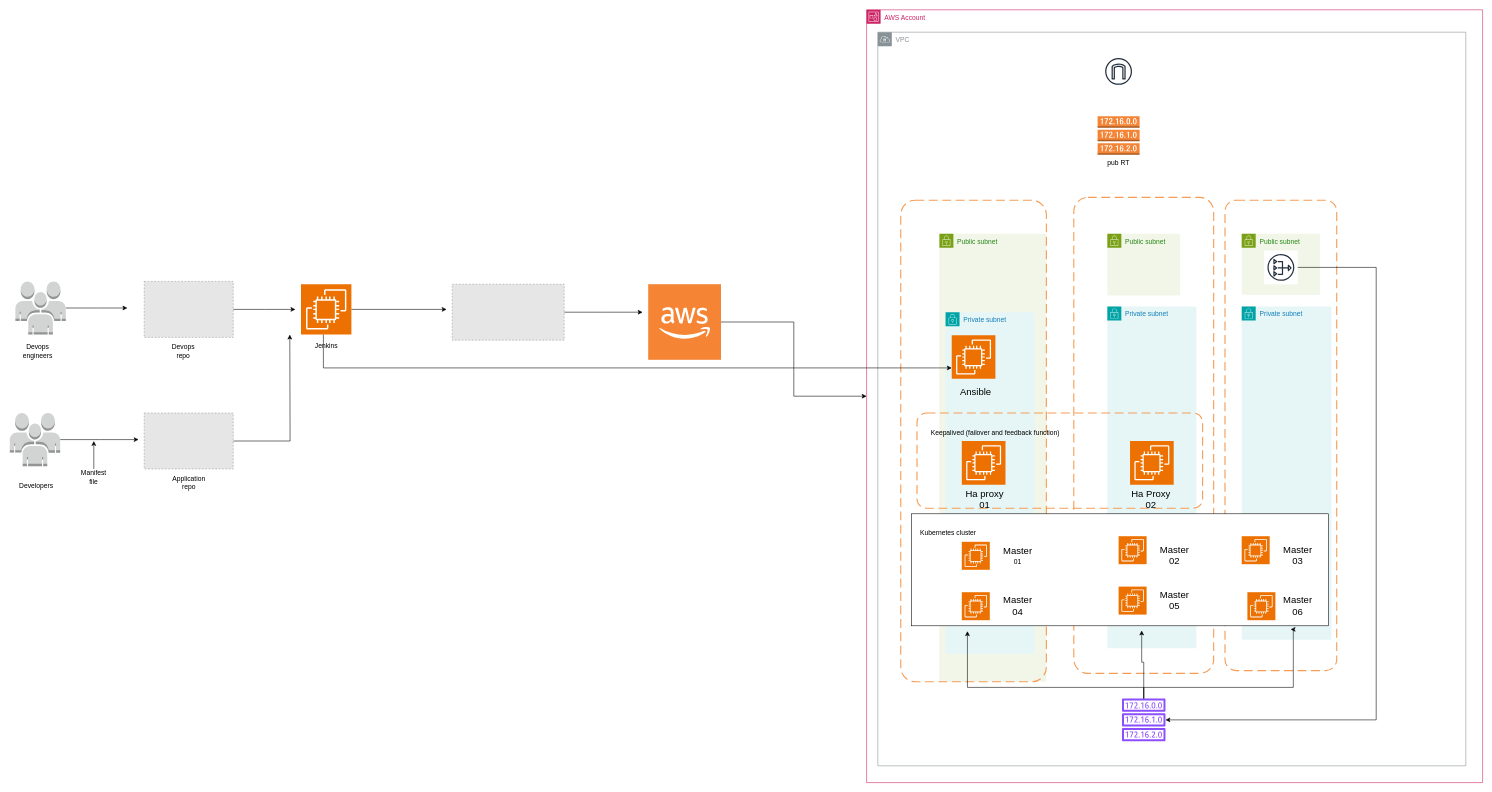
Image size: 1492x792. Some labels were removed from this diagram. Grey dashed boxes stand in for pictures. The shapes that lost their labels are listed below. From the top down, each one's centre as x and y in pixels, then its label:
At (x=1118, y=71): "Internet gateway".
At (x=1281, y=267): "NAT gateway".
